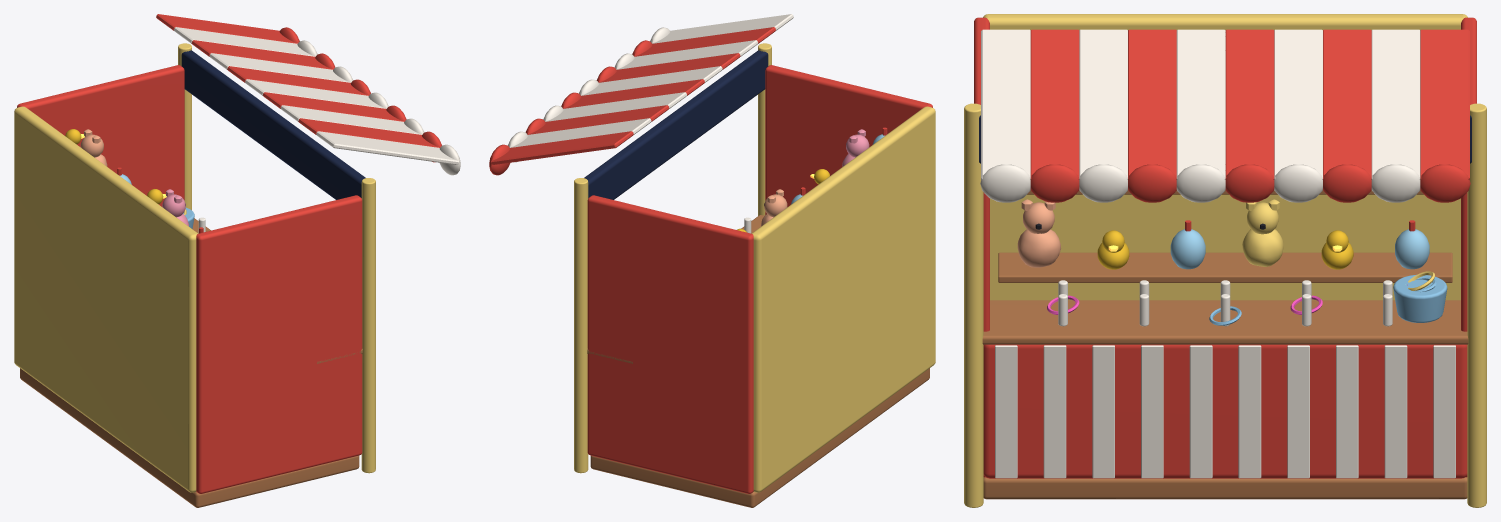
The model's file is hoopla_stall.glb.
The picture shows the model from 3 angles, left to right: view 1: azimuth 30°, elevation 25°; view 2: azimuth 150°, elevation 25°; view 3: azimuth 270°, elevation 25°; orthographic projection. The views are drawn at different scales.
Visible parts, largest first — view 1: hoopla_stall; view 2: hoopla_stall; view 3: hoopla_stall.
Part boxes in pixels (x1=…): hoopla_stall: x1=14, y1=14, x2=460, y2=507; hoopla_stall: x1=489, y1=14, x2=935, y2=507; hoopla_stall: x1=964, y1=14, x2=1486, y2=507.
Size of the model in its own units: 2.67 by 3.09 by 3.22.
Materials: 1 (1 with a texture image).
